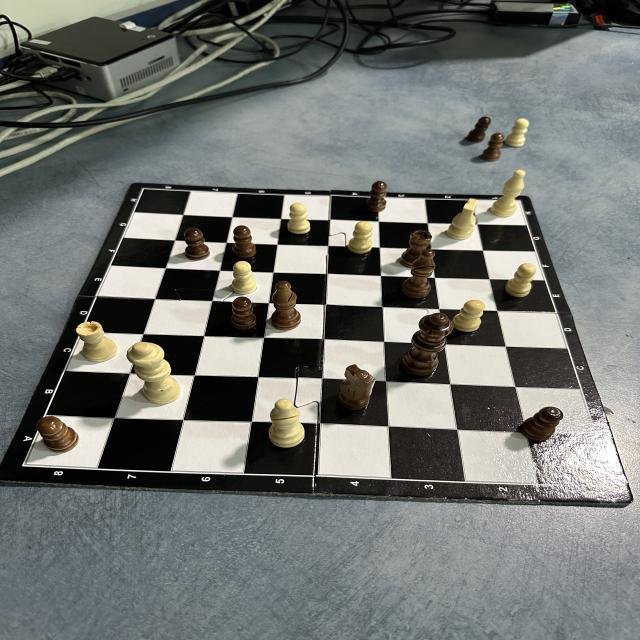Black-Bishop: (401, 249, 436, 299), (271, 280, 301, 330)
Black-Knight: (338, 363, 376, 411)
Black-Pawn: (36, 416, 80, 453), (520, 406, 564, 441), (230, 296, 258, 331), (184, 228, 210, 261), (233, 226, 257, 258), (365, 181, 388, 213), (467, 116, 492, 143), (482, 133, 505, 162)
Black-Queen: (400, 313, 454, 376)
Black-Rook: (400, 230, 432, 268)
White-Bishop: (267, 398, 306, 448), (490, 170, 526, 218)
White-Knight: (446, 198, 479, 240)
White-Pawn: (452, 300, 486, 332), (505, 263, 536, 298), (231, 260, 258, 296), (348, 221, 373, 254), (504, 118, 530, 148), (287, 203, 311, 235)
White-Queen: (126, 341, 182, 404)
White-Rook: (76, 322, 118, 362)
